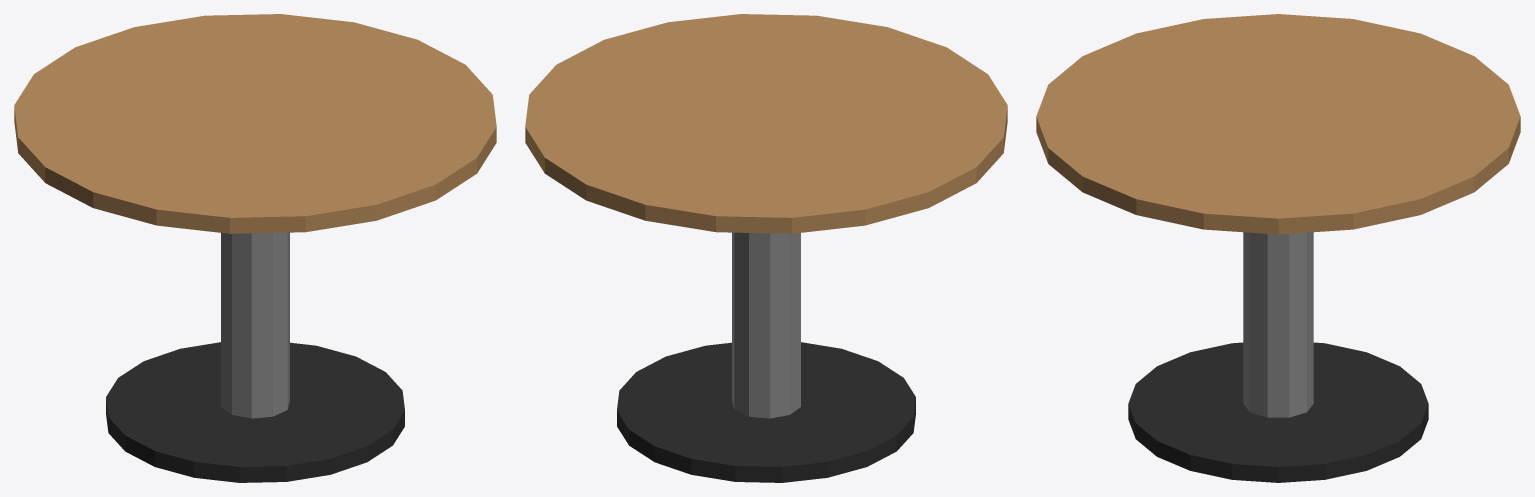
3 views of the same model, side by side, from view 1: azimuth 30°, elevation 25°; view 2: azimuth 150°, elevation 25°; view 3: azimuth 270°, elevation 25° (orthographic).
Parts seen in each view (by area): view 1: mesa_retreat; view 2: mesa_retreat; view 3: mesa_retreat.
Part boxes in pixels (box(x1,y1,x2,y2)): mesa_retreat: box(14, 14, 496, 482); mesa_retreat: box(525, 14, 1007, 482); mesa_retreat: box(1036, 14, 1520, 482).
Bounding box in the file's own units: 1.1 × 1.1 × 0.76.
